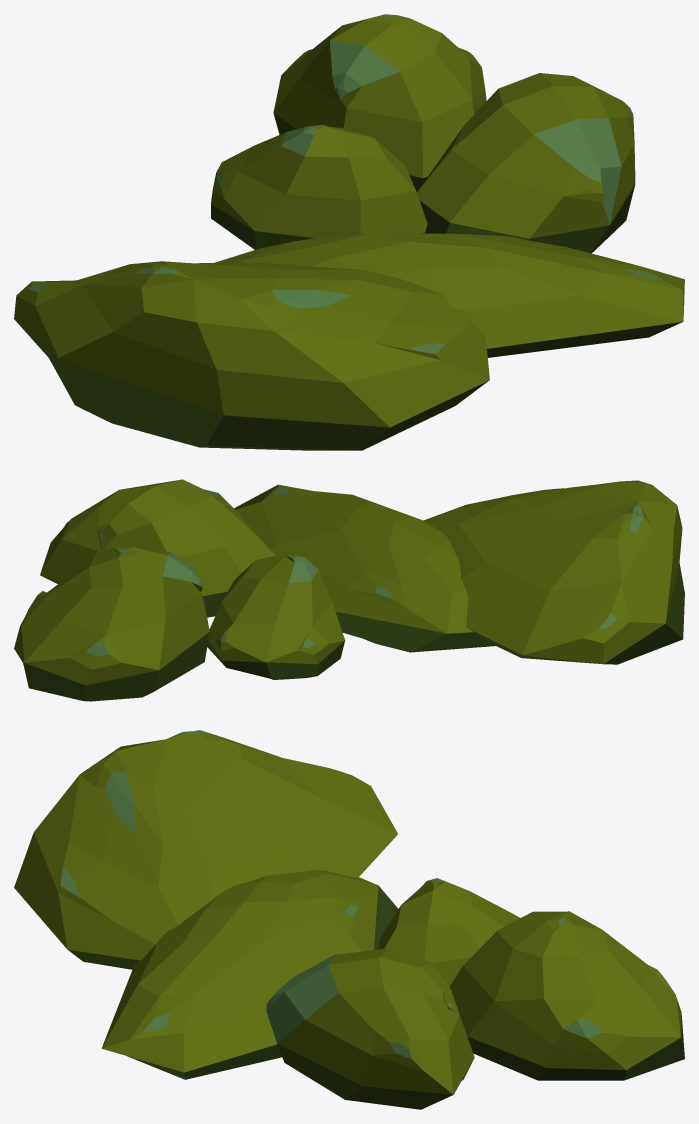
The model's file is moho (1).fbx.
The picture shows the model from 3 angles, top to bottom: view 1: azimuth 30°, elevation 25°; view 2: azimuth 150°, elevation 25°; view 3: azimuth 270°, elevation 25°; orthographic projection. The views are drawn at different scales.
Visible parts, largest first — view 1: Cube.002, Cube.004, Cube.003, Cube.001, Cube.006; view 2: Cube.002, Cube.003, Cube.001, Cube.004, Cube.006; view 3: Cube.002, Cube.003, Cube.001, Cube.004, Cube.006.
Part boxes in pixels (box(x1,y1,x2,y2)): Cube.002: box(14, 261, 489, 450); Cube.004: box(417, 73, 635, 253); Cube.003: box(214, 233, 684, 357); Cube.001: box(273, 14, 486, 191); Cube.006: box(211, 125, 427, 249); Cube.002: box(423, 480, 684, 664); Cube.003: box(234, 484, 495, 652); Cube.001: box(14, 547, 209, 701); Cube.004: box(40, 479, 276, 617); Cube.006: box(207, 555, 345, 679); Cube.002: box(14, 730, 397, 969); Cube.003: box(101, 870, 398, 1079); Cube.001: box(449, 911, 684, 1080); Cube.004: box(266, 948, 474, 1109); Cube.006: box(377, 878, 520, 986).
Bounding box in the file's own units: 33.41 × 7.52 × 32.54.
